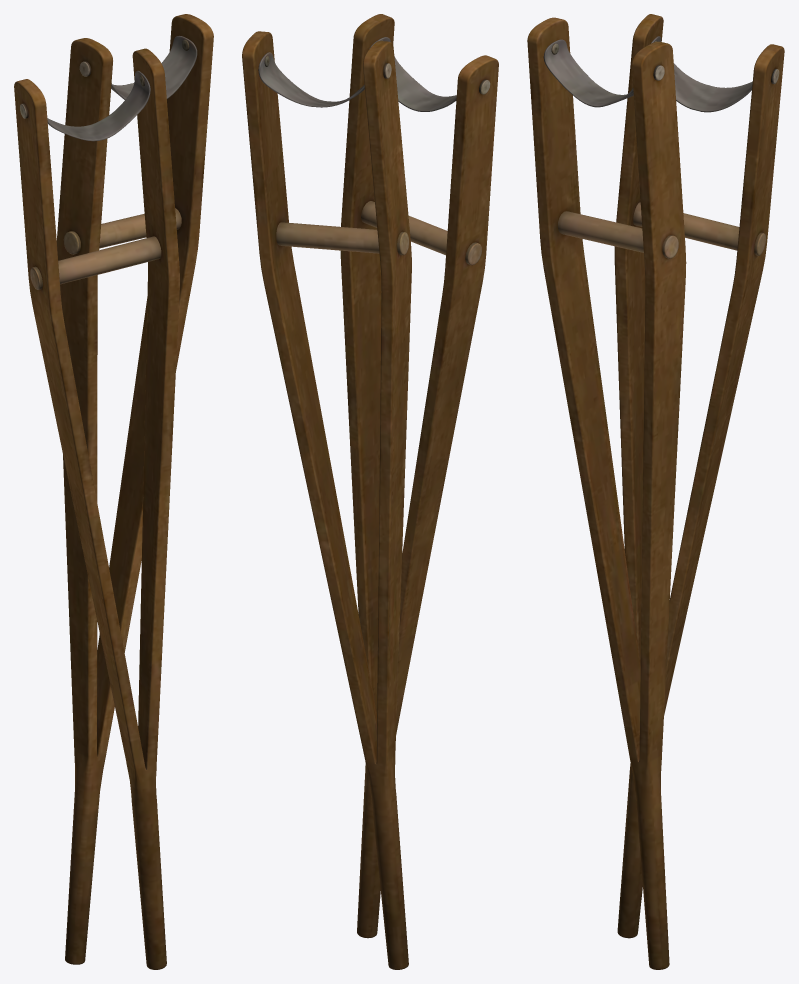
File: vintage_crutches_01.glb
3 views of the same model, side by side, from view 1: azimuth 30°, elevation 25°; view 2: azimuth 150°, elevation 25°; view 3: azimuth 330°, elevation 25° (orthographic).
Parts seen in each view (by area): view 1: vintage_crutches_01_crutch01, vintage_crutches_01_crutch02; view 2: vintage_crutches_01_crutch02, vintage_crutches_01_crutch01; view 3: vintage_crutches_01_crutch01, vintage_crutches_01_crutch02.
Part boxes in pixels (box(x1,y1,x2,y2)): vintage_crutches_01_crutch01: box(14, 48, 179, 969); vintage_crutches_01_crutch02: box(56, 14, 213, 964); vintage_crutches_01_crutch02: box(242, 31, 411, 969); vintage_crutches_01_crutch01: box(340, 14, 498, 938); vintage_crutches_01_crutch01: box(527, 17, 686, 969); vintage_crutches_01_crutch02: box(614, 14, 784, 938).
Size of the model in its own units: 0.3838 by 1.6 by 0.2036.
Materials: 1 (1 with a texture image).
